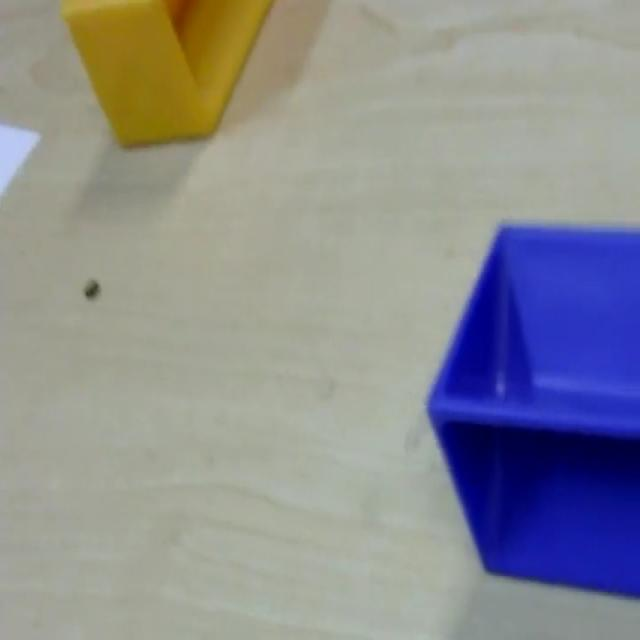blue_block: (424, 219, 638, 597)
yellow_block: (60, 0, 275, 148)
